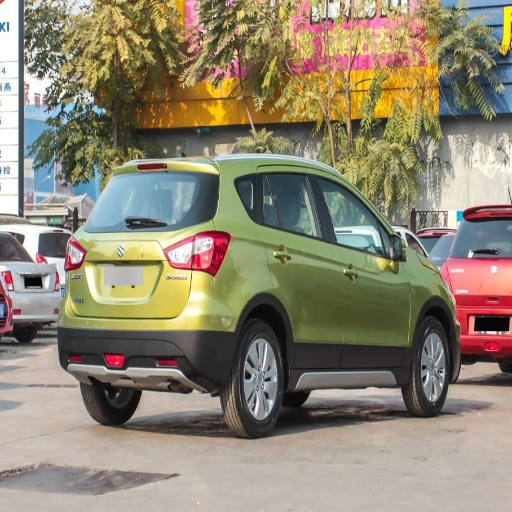back_bumper: (56, 271, 240, 388)
back_right_door: (259, 170, 346, 372)
tailgate: (66, 226, 188, 317)
trunk: (149, 228, 194, 318)
